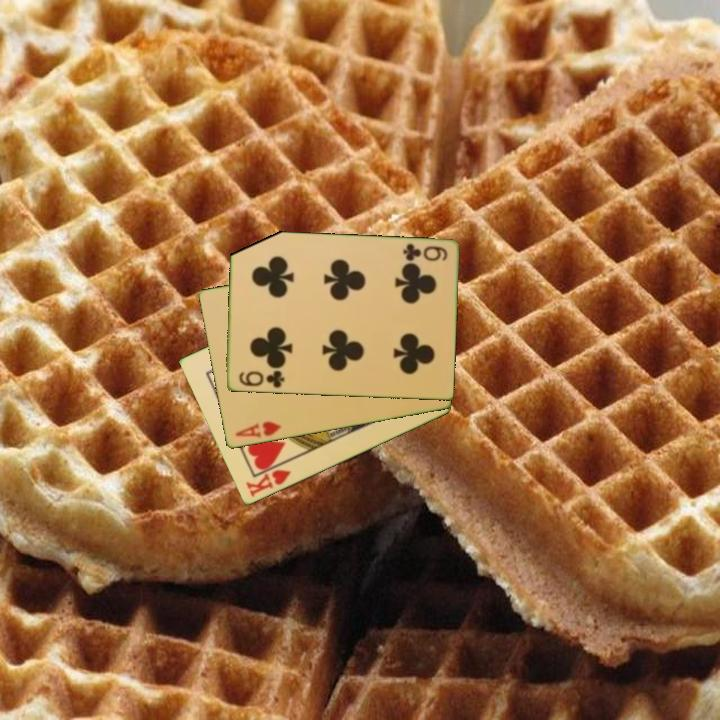6c: (235, 367, 287, 391), (399, 240, 450, 264)
Ah: (232, 418, 284, 441)
Kh: (242, 458, 294, 500)
